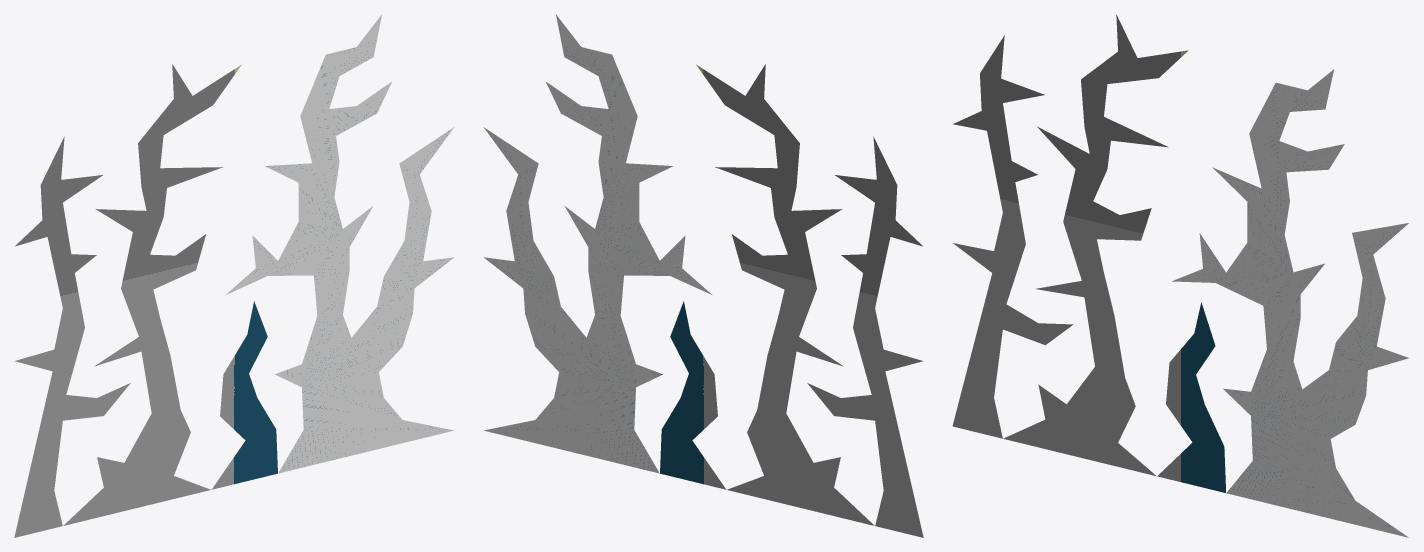
The model's file is spikes_mod_01.fbx.
3 views of the same model, side by side, from view 1: azimuth 30°, elevation 25°; view 2: azimuth 150°, elevation 25°; view 3: azimuth 330°, elevation 25° (orthographic). The views are drawn at different scales.
Parts seen in each view (by area): view 1: Cube; view 2: Cube; view 3: Cube.
Part boxes in pixels (box(x1,y1,x2,y2)): Cube: box(14, 14, 454, 537); Cube: box(483, 14, 923, 537); Cube: box(952, 14, 1409, 537).
Bounding box in the file's own units: 2 × 1.75e-07 × 1.89.
